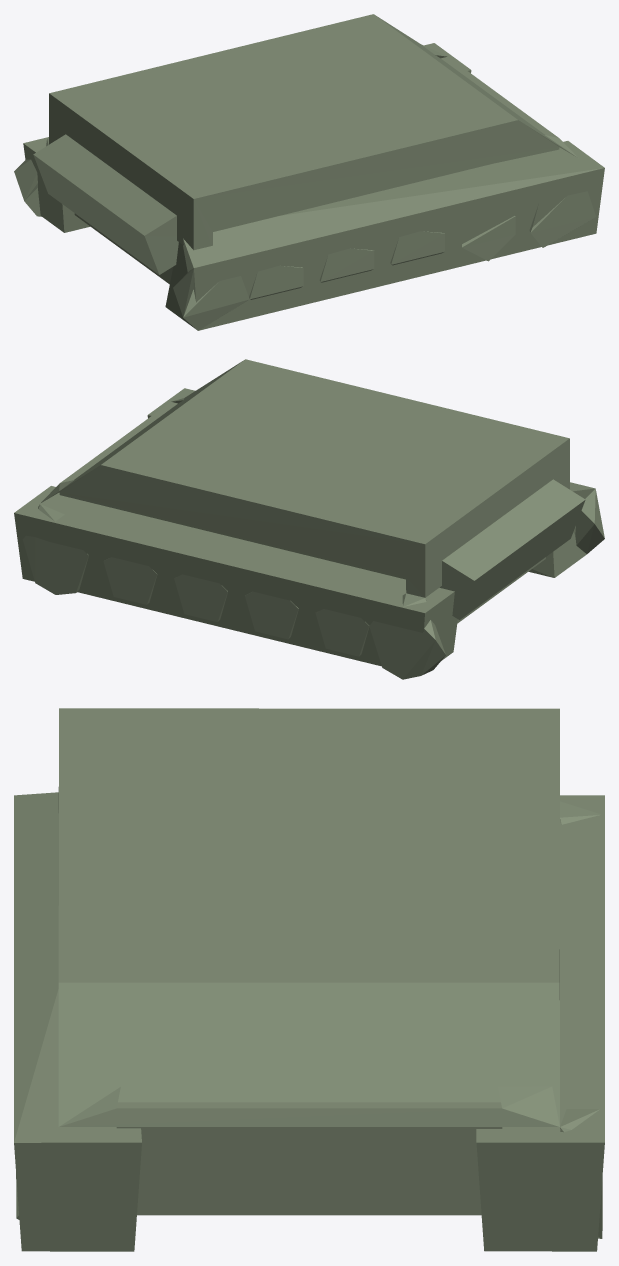
Rendered from tank_fr.lod2.glb.
3 renders of one model, top to bottom at view 1: azimuth 30°, elevation 25°; view 2: azimuth 150°, elevation 25°; view 3: azimuth 270°, elevation 25°, orthographic. The views are drawn at different scales.
Size of the model in its own units: 3.35 by 0.96 by 2.3.
